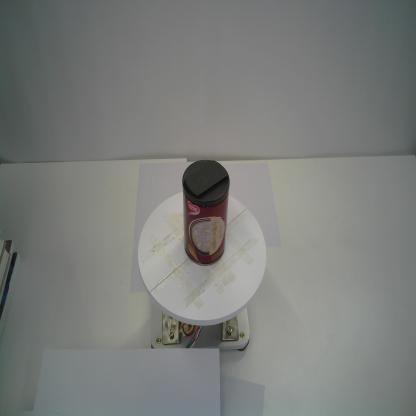Canned Food: (180, 158, 230, 268)
